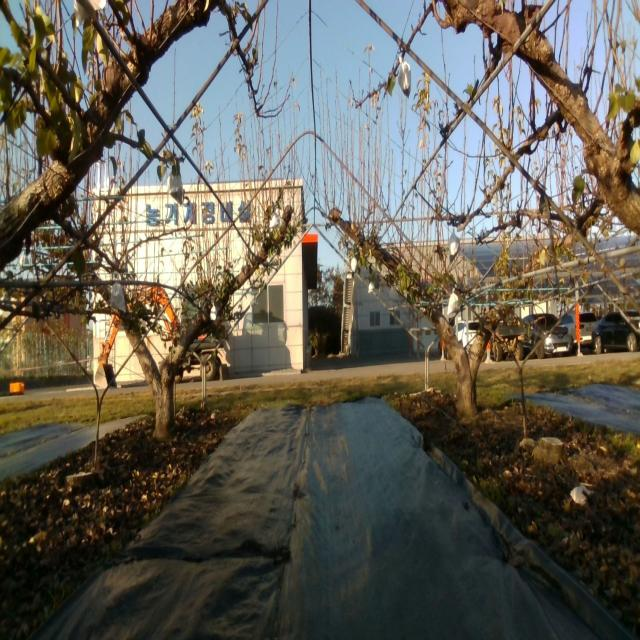pearbags: (166, 172, 184, 205), (398, 56, 411, 98), (110, 282, 127, 314), (448, 229, 461, 264), (447, 287, 461, 315)
